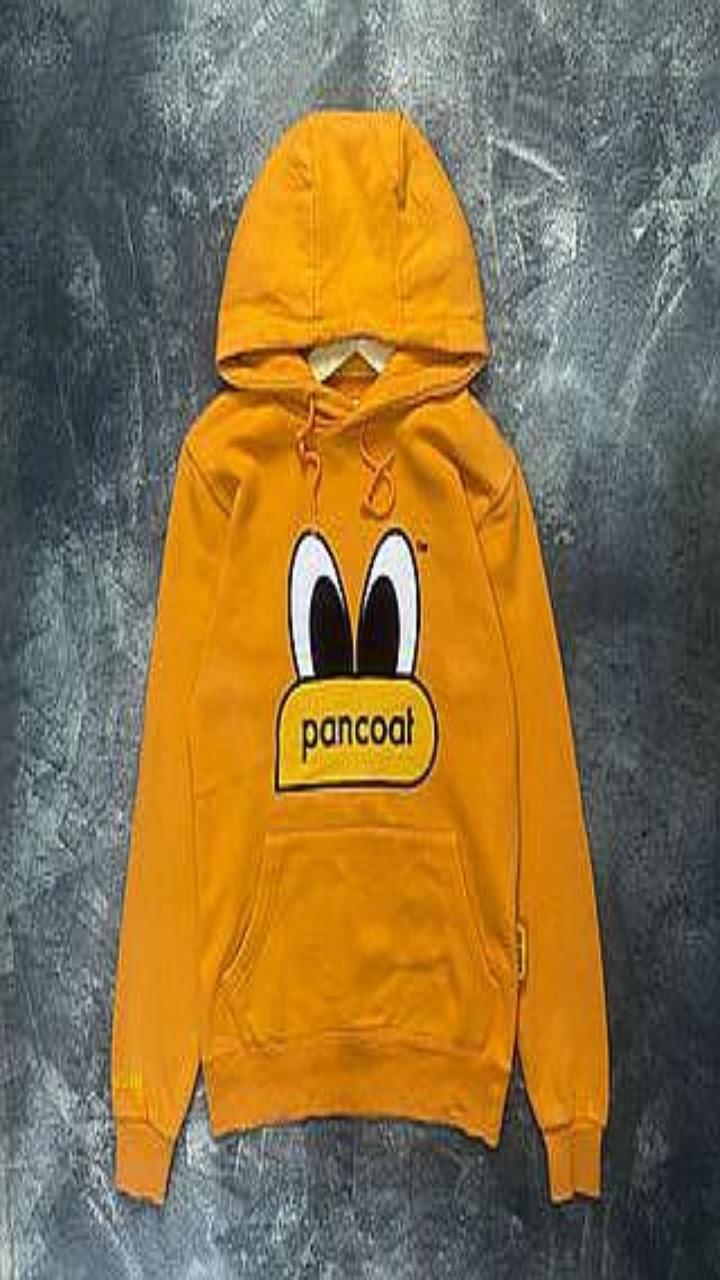Hoodie: (112, 110, 608, 1201)
